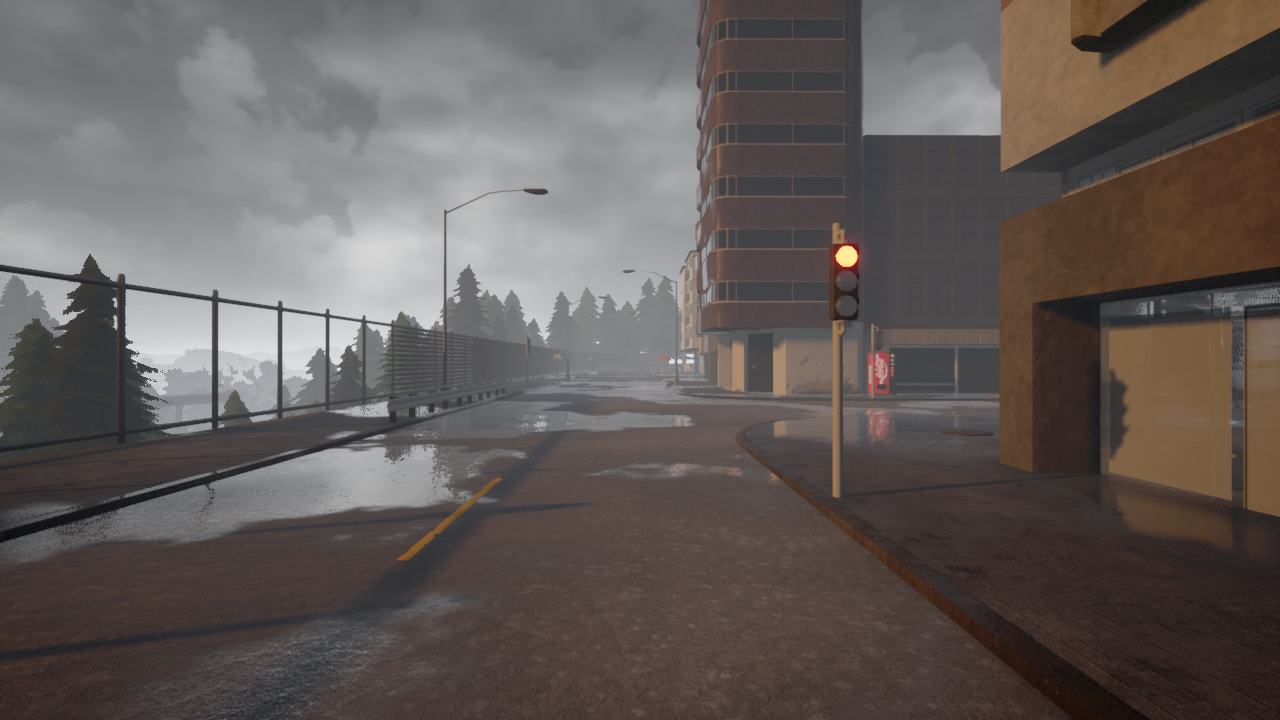red: (826, 243, 856, 322)
